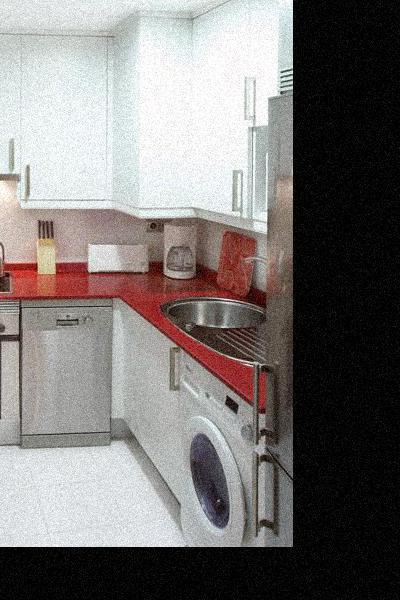Electrodomestico: (179, 367, 261, 543), (28, 304, 109, 448), (0, 280, 20, 448)
Lavaplatos: (156, 260, 273, 365)
